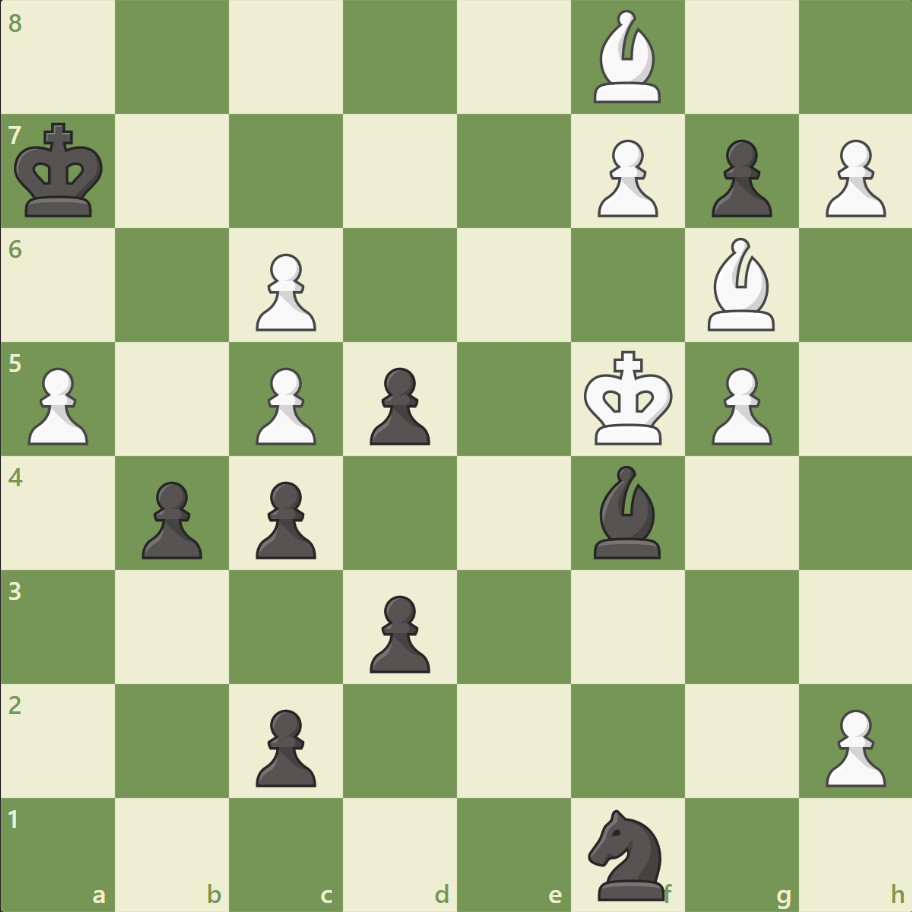B: (585, 6, 669, 109), (698, 233, 782, 336)
K: (579, 344, 679, 452)
P: (247, 246, 322, 337), (20, 359, 95, 450), (247, 359, 322, 450), (701, 359, 776, 450), (588, 132, 662, 223), (815, 132, 889, 223), (815, 700, 889, 791)
b: (585, 460, 669, 563)
k: (11, 117, 111, 225)
n: (579, 802, 676, 904)
p: (701, 132, 776, 223), (133, 473, 208, 564), (247, 473, 322, 564), (247, 700, 322, 791), (361, 359, 435, 450), (361, 586, 435, 677)
